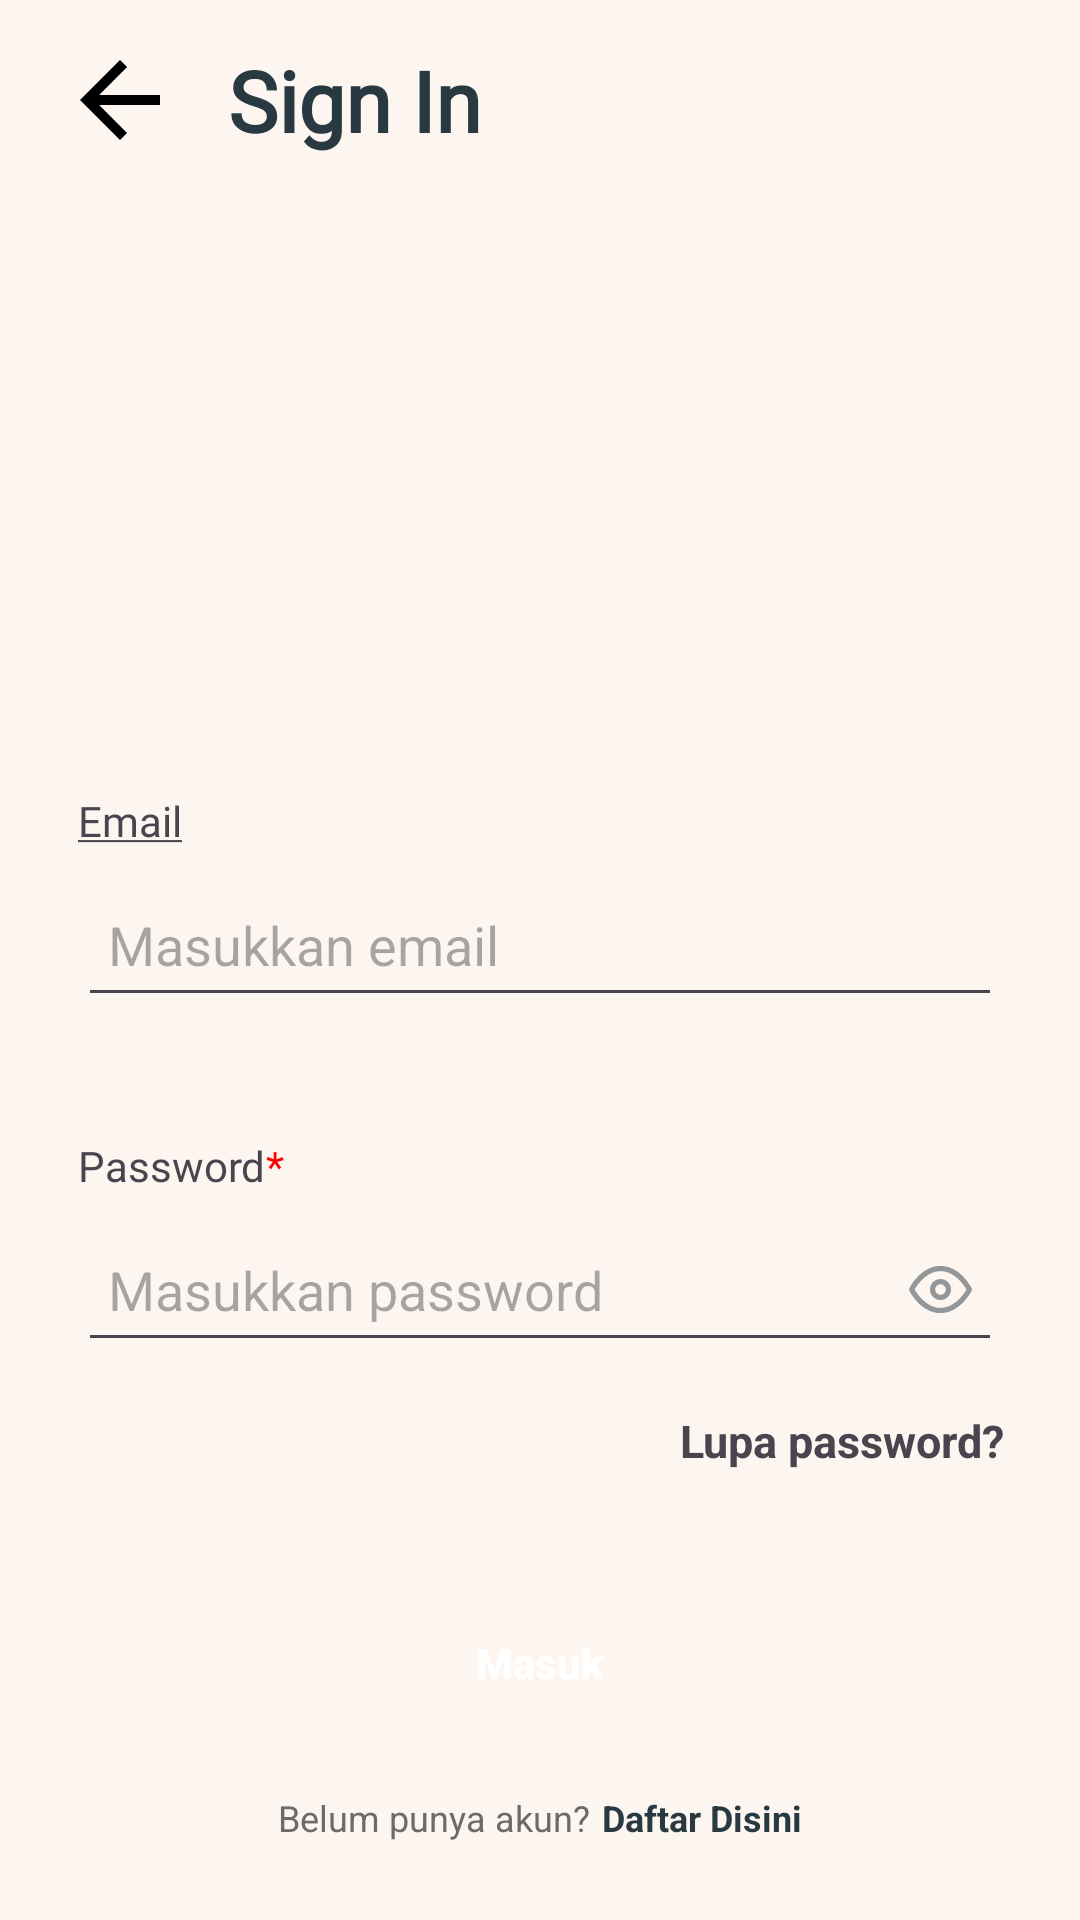

Named icons in this screenshot (1080x1920) and their centers, point (x, y):
arrow back: point (120, 100)
